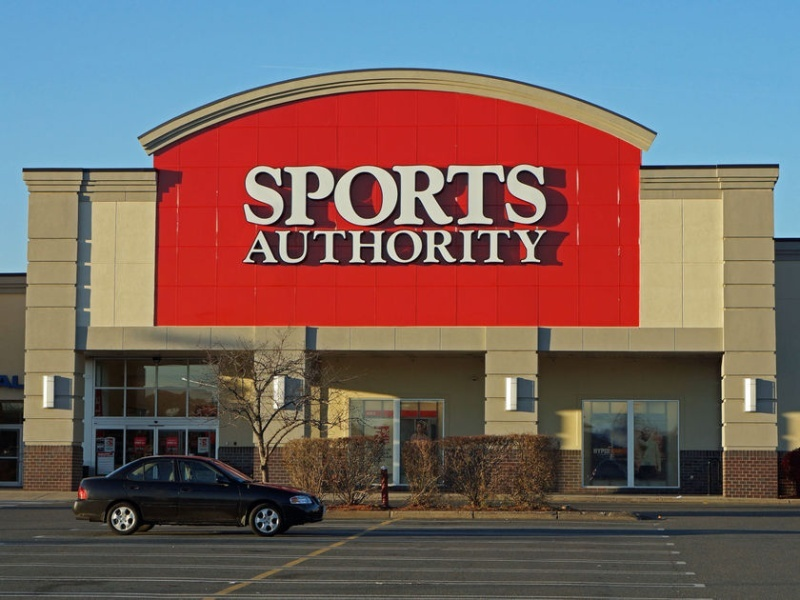text: (257, 163, 272, 226), (273, 163, 288, 226), (289, 163, 304, 226), (305, 163, 320, 226), (321, 163, 336, 226), (337, 163, 352, 226), (353, 163, 368, 226), (369, 163, 384, 226), (385, 163, 400, 226), (401, 163, 416, 226), (417, 163, 432, 226), (433, 163, 448, 226), (449, 163, 464, 226), (465, 163, 480, 226), (481, 163, 496, 226), (497, 163, 512, 226), (513, 163, 528, 226), (529, 163, 544, 226), (243, 163, 256, 226), (273, 228, 288, 265), (289, 228, 304, 265), (305, 228, 320, 265), (321, 228, 336, 265), (337, 228, 352, 265), (353, 228, 368, 265), (369, 228, 384, 265), (385, 228, 400, 265), (401, 228, 416, 265), (417, 228, 432, 265), (433, 228, 448, 265), (449, 228, 464, 265), (465, 228, 480, 265), (481, 228, 496, 265), (497, 228, 512, 265), (513, 228, 528, 265), (529, 228, 544, 265), (258, 228, 272, 265), (1, 373, 16, 392), (17, 373, 28, 392), (545, 163, 547, 226), (593, 448, 608, 456), (545, 228, 548, 265), (609, 448, 611, 456)
